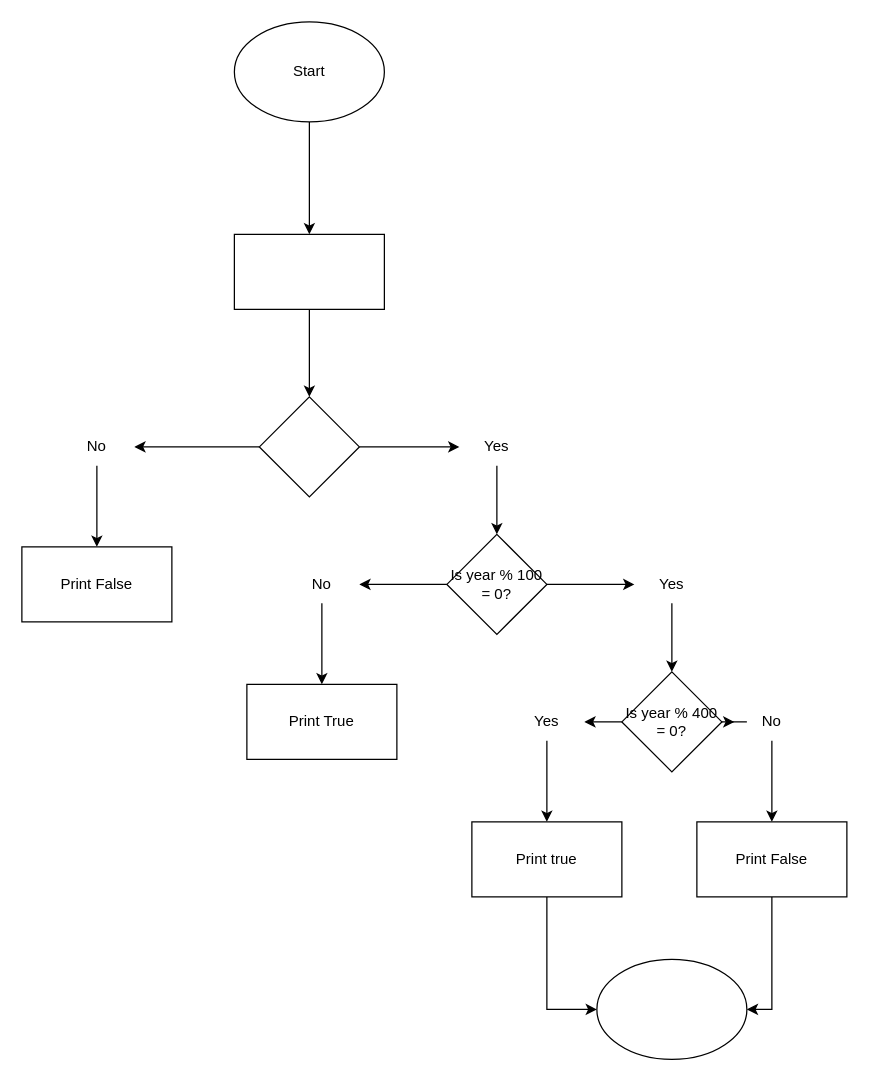
The diagram is 869 pixels wide and 1081 high, and some of its shapes have lost their labels. Here are the shapes that lost their labels. From the top down, the centre of each, then its label:
At (308,271): "Input year".
At (308,446): "Is year % 4 = 0?".
At (671,1008): "End".
